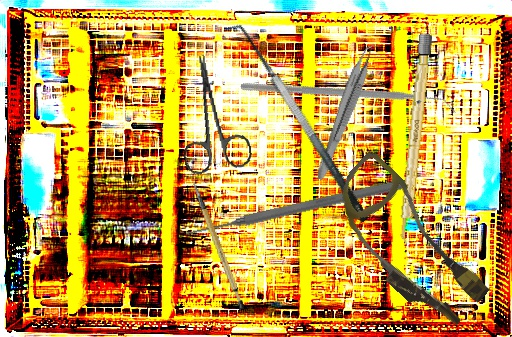Cannula: (312, 149, 505, 337)
Chopper: (239, 1, 457, 198)
Iris Scissors: (170, 49, 254, 176)
Pusher: (184, 176, 405, 241)
Scalpel Handle: (191, 175, 247, 314), (397, 33, 433, 246)
Spatula Surgical: (221, 15, 371, 234)
Tissue Forceps: (314, 39, 380, 184)
